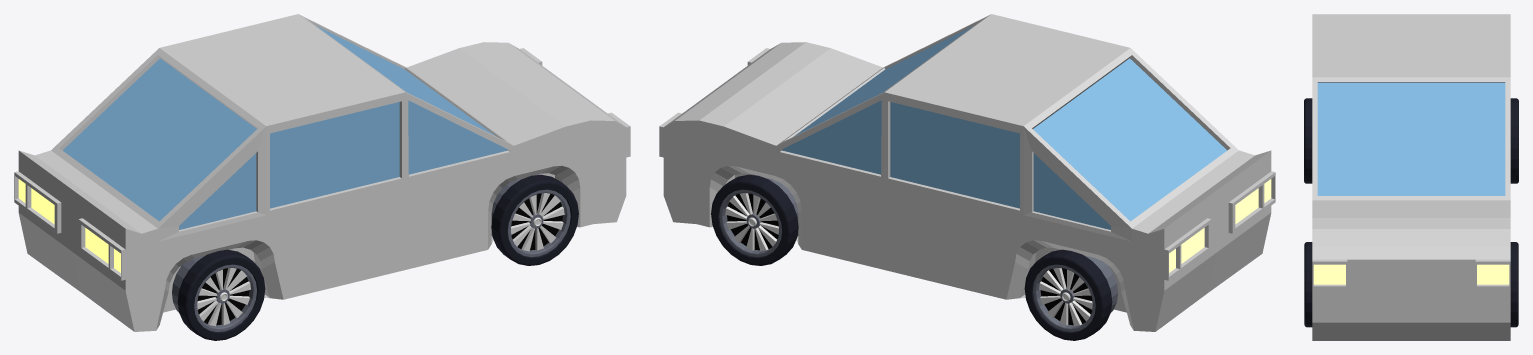
File: car.glb
3 views of the same model, side by side, from view 1: azimuth 30°, elevation 25°; view 2: azimuth 150°, elevation 25°; view 3: azimuth 270°, elevation 25° (orthographic). The views are drawn at different scales.
Parts seen in each view (by area): view 1: car low poly.002; view 2: car low poly.002; view 3: car low poly.002.
Part boxes in pixels (box(x1,y1,x2,y2)): car low poly.002: box(14, 14, 630, 340); car low poly.002: box(659, 14, 1275, 340); car low poly.002: box(1304, 14, 1518, 340).
Bounding box in the file's own units: 2.32 × 0.88 × 0.9156.
